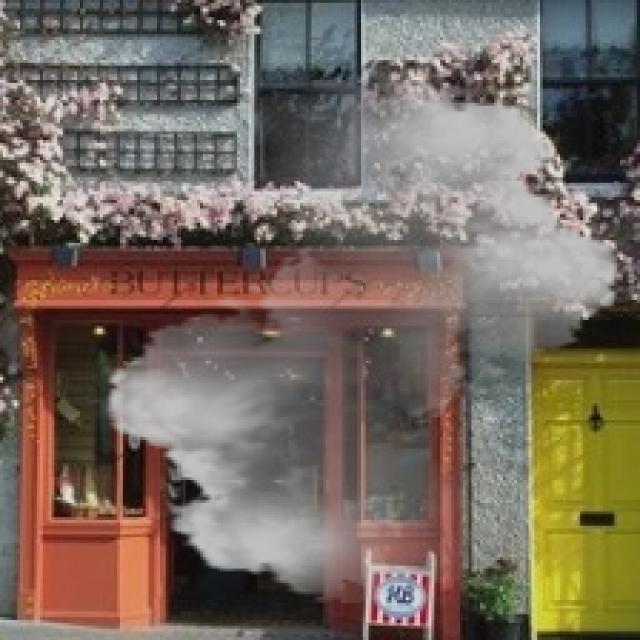Smoke: (88, 71, 638, 603)
